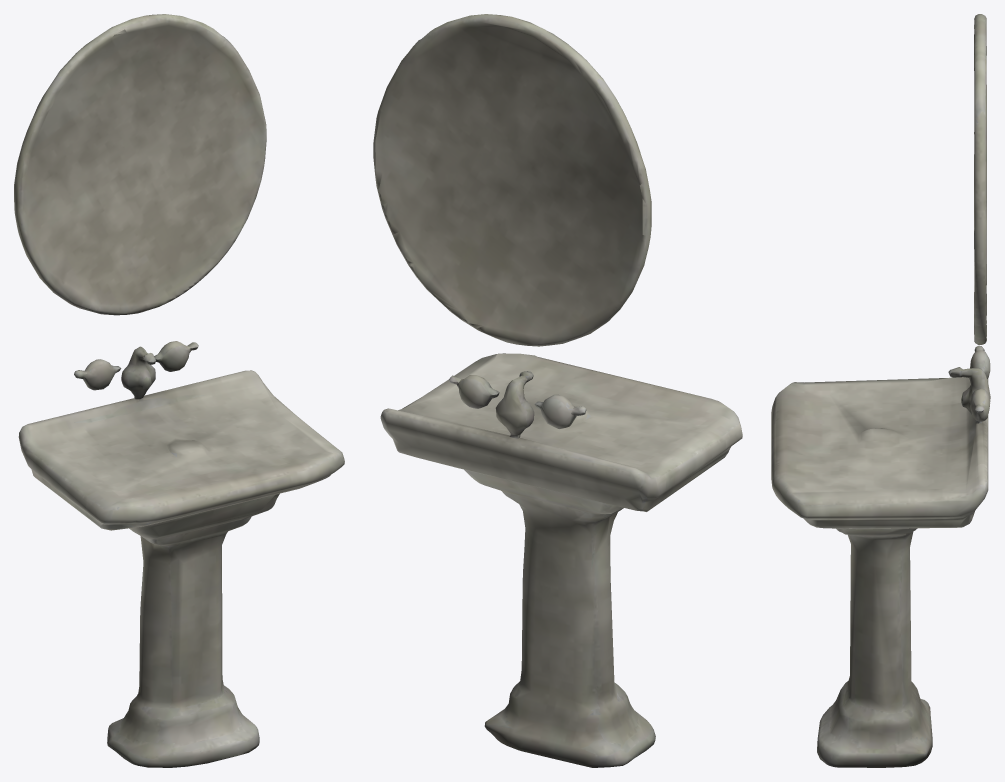
File: simple-white-painted-washbasin-v001.glb
3 views of the same model, side by side, from view 1: azimuth 30°, elevation 25°; view 2: azimuth 150°, elevation 25°; view 3: azimuth 270°, elevation 25° (orthographic). The views are drawn at different scales.
Visible parts, largest first — view 1: simple-white-painted-washbasin; view 2: simple-white-painted-washbasin; view 3: simple-white-painted-washbasin.
Boxes of the visible parts, <box> form: simple-white-painted-washbasin: <box>14,14,344,767</box>; simple-white-painted-washbasin: <box>373,14,742,767</box>; simple-white-painted-washbasin: <box>771,14,990,767</box>.
Size of the model in its own units: 0.3475 by 0.9093 by 0.2518.
1 material, 1 textured.
